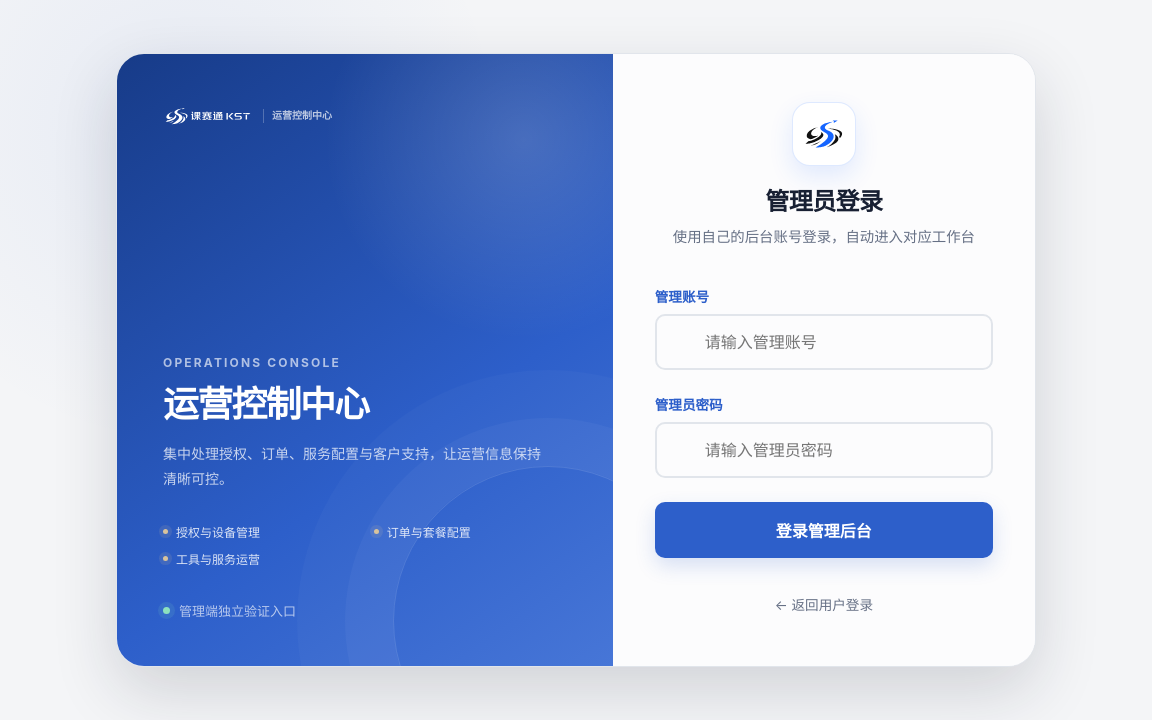
Test: AdminLoginView › 登录流程测试 › 登录失败应该显示错误信息
In the field with id "adminUsername": point(824, 342) top-left (655, 314), bottom-right (993, 370), type "owner"
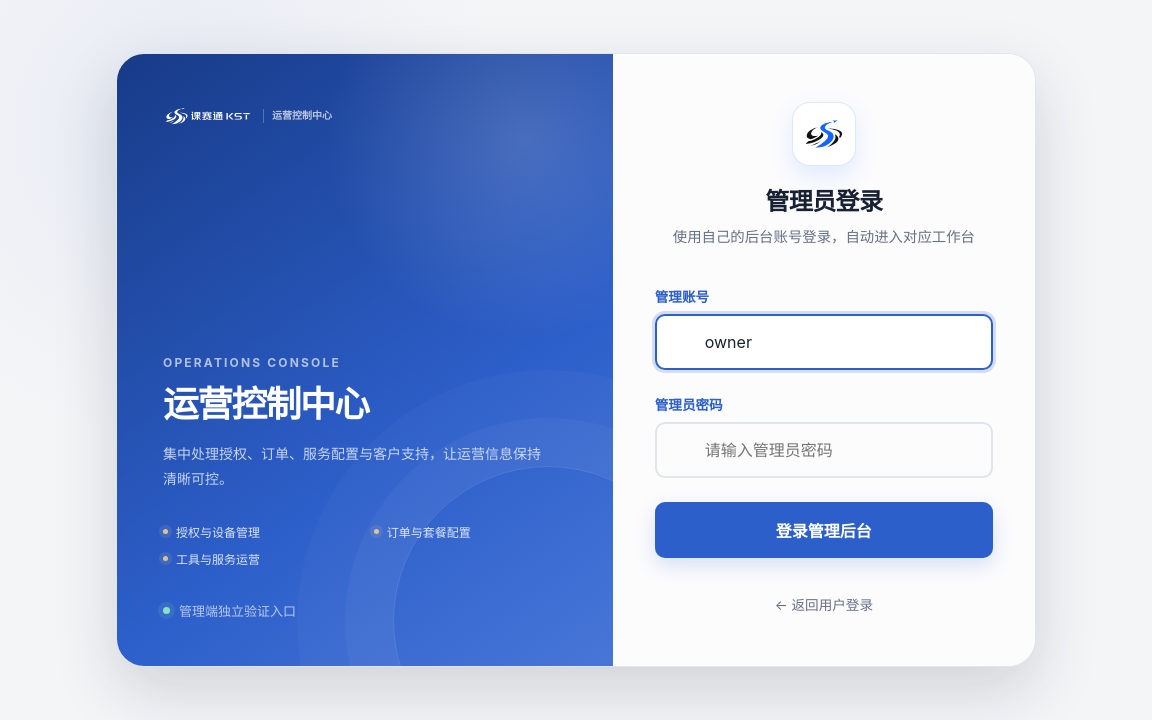
In the password field with id "adminPassword": point(824, 450) top-left (655, 422), bottom-right (993, 478), type "wrong-password"
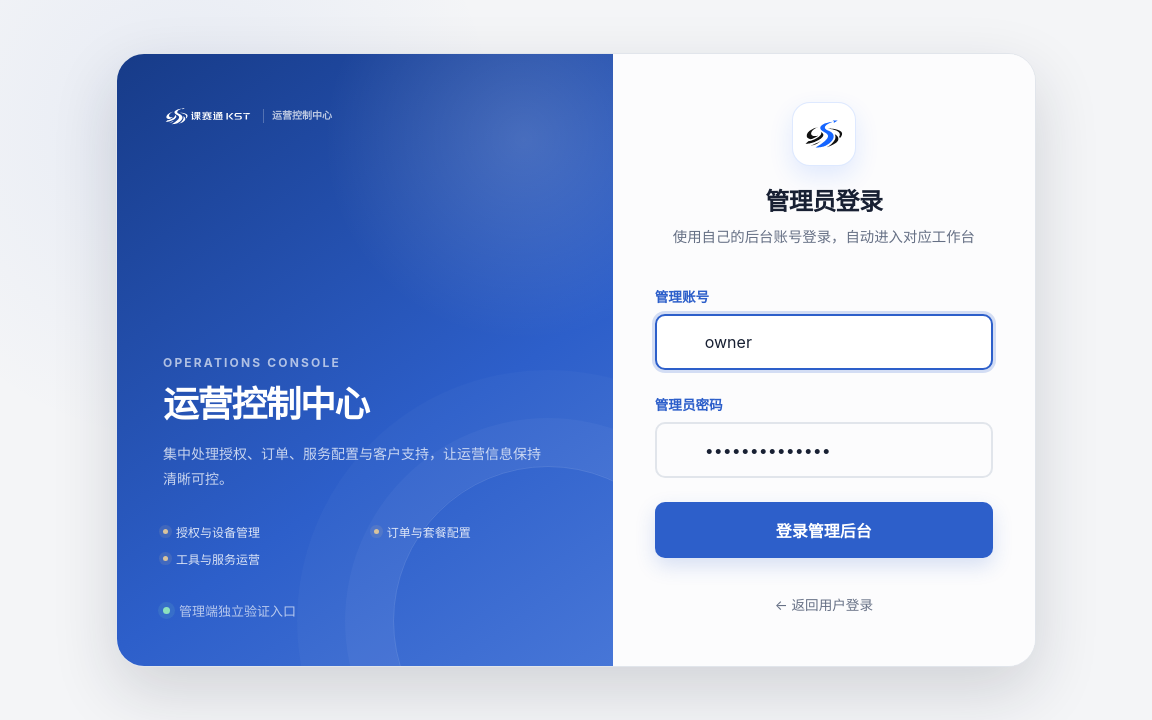
Submit the form, box top-left (655, 286), bottom-right (993, 558)
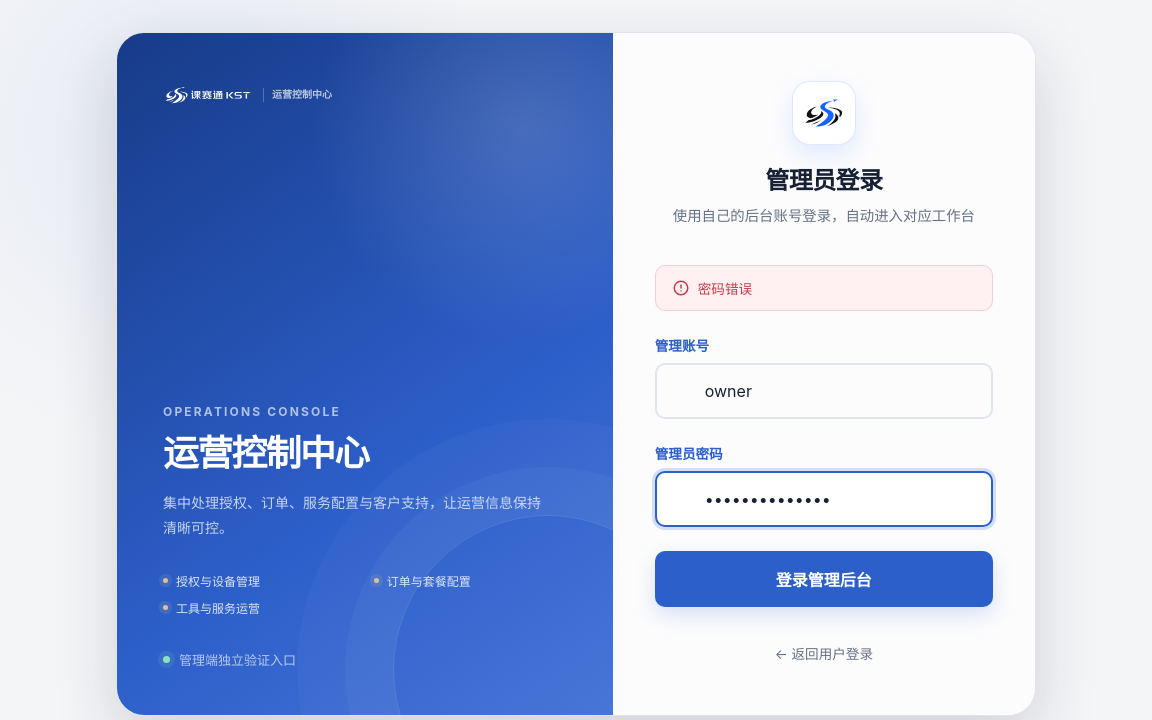
Check: the text "密码错误" is shown, box top-left (698, 278), bottom-right (752, 298)
